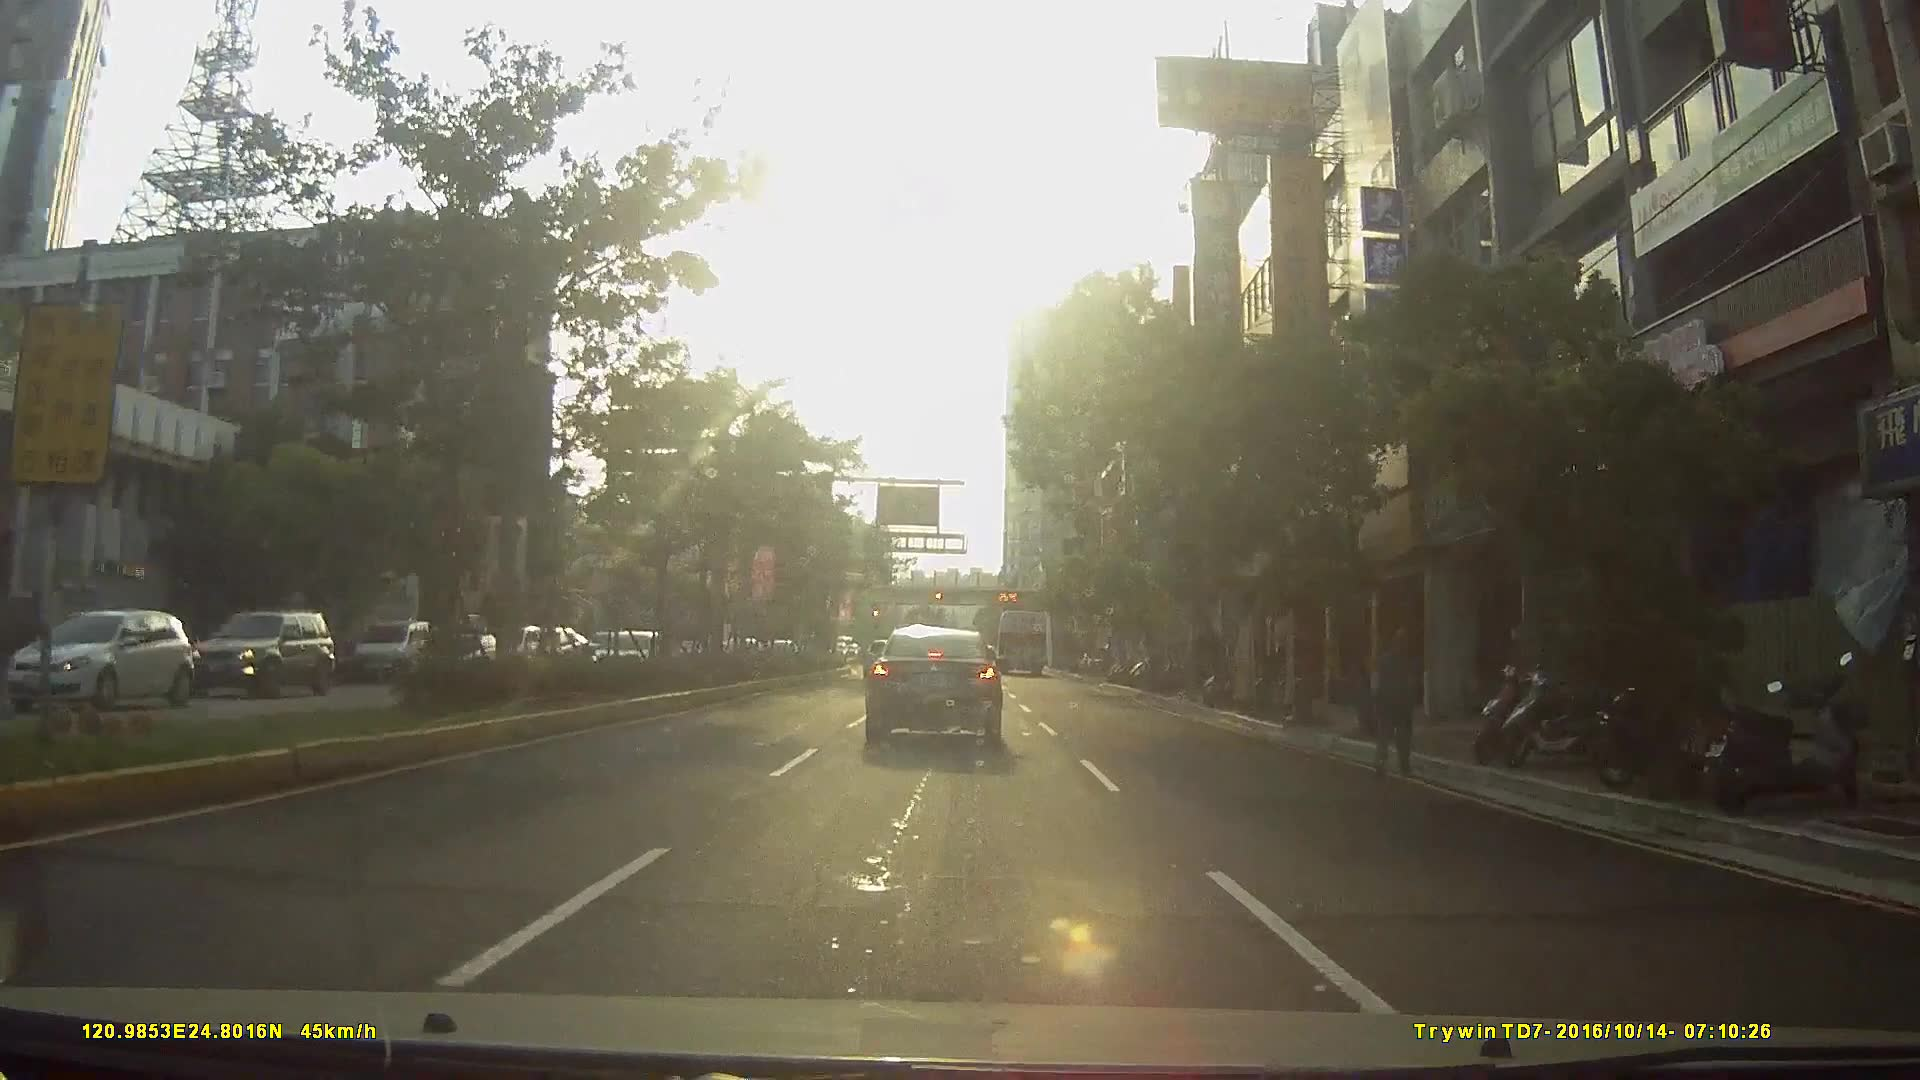pedestrian: (1363, 620, 1424, 766)
vehicle: (21, 600, 194, 708), (862, 622, 1003, 743), (179, 604, 339, 702), (344, 617, 433, 681), (996, 607, 1049, 674)
